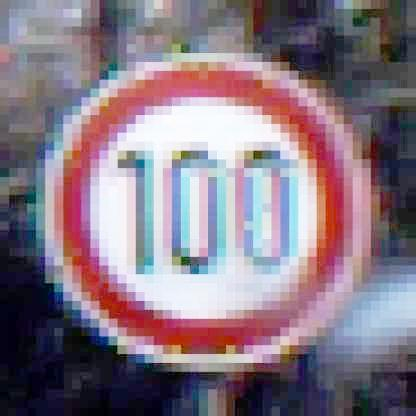Speed Limit -100-: (44, 53, 373, 370)
